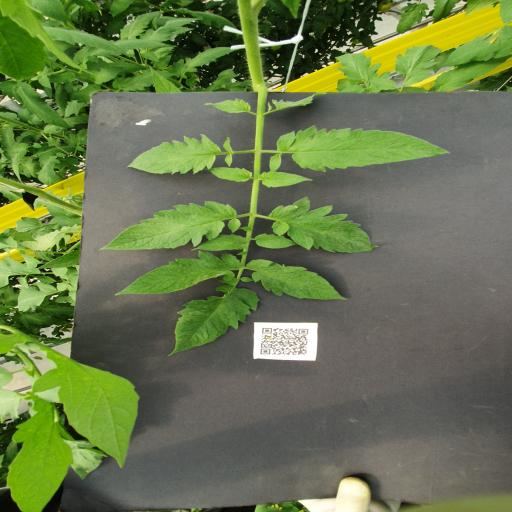Healthy: (32, 346, 140, 469), (268, 124, 450, 172), (6, 401, 73, 512), (100, 201, 240, 250), (166, 285, 259, 357), (270, 196, 380, 254), (114, 250, 241, 296), (128, 133, 234, 175), (246, 259, 346, 300), (0, 80, 75, 129), (40, 25, 131, 58), (395, 44, 442, 86), (18, 224, 80, 251), (440, 36, 488, 66), (336, 52, 382, 80), (119, 10, 163, 39), (17, 282, 57, 312), (185, 47, 230, 72), (396, 3, 430, 34), (260, 170, 314, 189), (109, 36, 178, 50), (36, 155, 66, 186), (190, 234, 246, 250), (38, 248, 80, 268), (11, 143, 30, 183), (204, 167, 253, 182), (204, 98, 251, 113), (255, 233, 298, 249), (93, 66, 124, 84), (367, 78, 397, 90), (154, 55, 172, 69), (141, 51, 161, 62)
